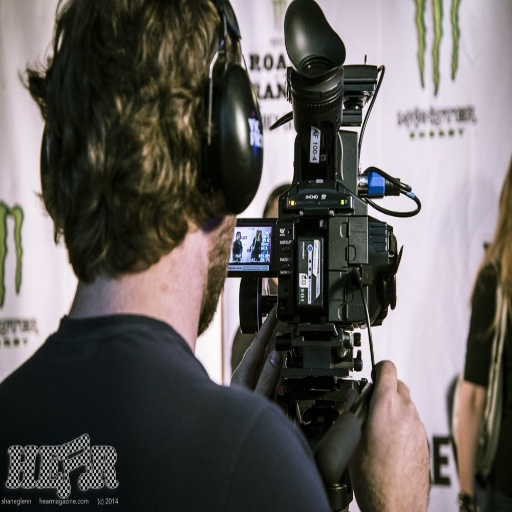hand: (346, 361, 449, 505)
